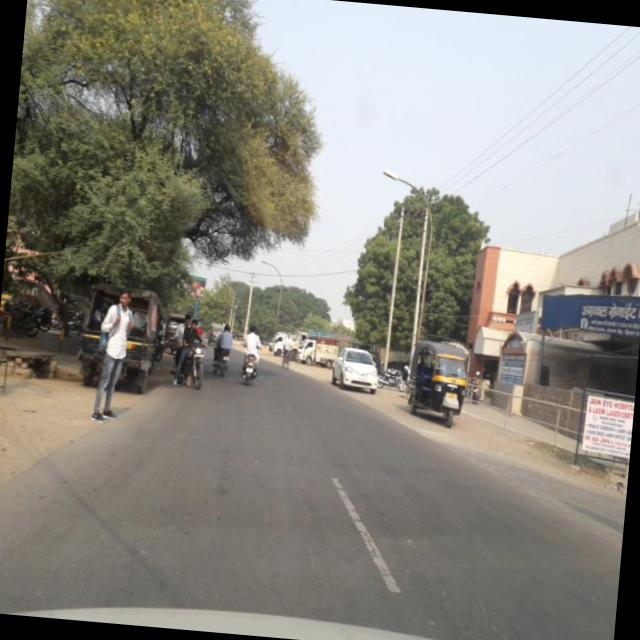crack: (466, 595, 582, 640)
